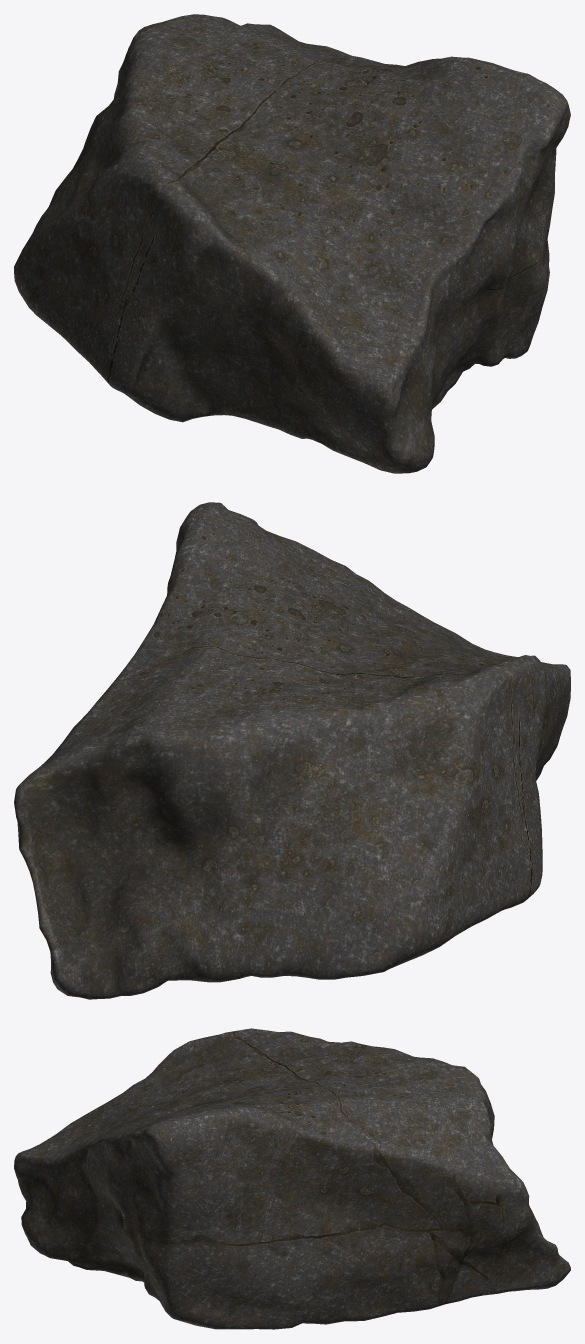
Rendered from set2_rock_20.fbx.
The picture shows the model from 3 angles, top to bottom: view 1: azimuth 30°, elevation 25°; view 2: azimuth 150°, elevation 25°; view 3: azimuth 270°, elevation 25°; orthographic projection. The views are drawn at different scales.
Visible parts, largest first — view 1: set2_rock_20; view 2: set2_rock_20; view 3: set2_rock_20.
Part boxes in pixels (x1,y1,x2,y2): set2_rock_20: (14, 14, 570, 473); set2_rock_20: (14, 502, 570, 999); set2_rock_20: (14, 1028, 570, 1329).
Bounding box in the file's own units: 47.93 × 33.71 × 75.91.
Materials: 1 (1 with a texture image).
